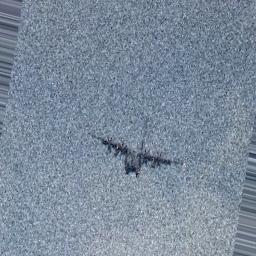Airplane: (89, 127, 188, 179)
